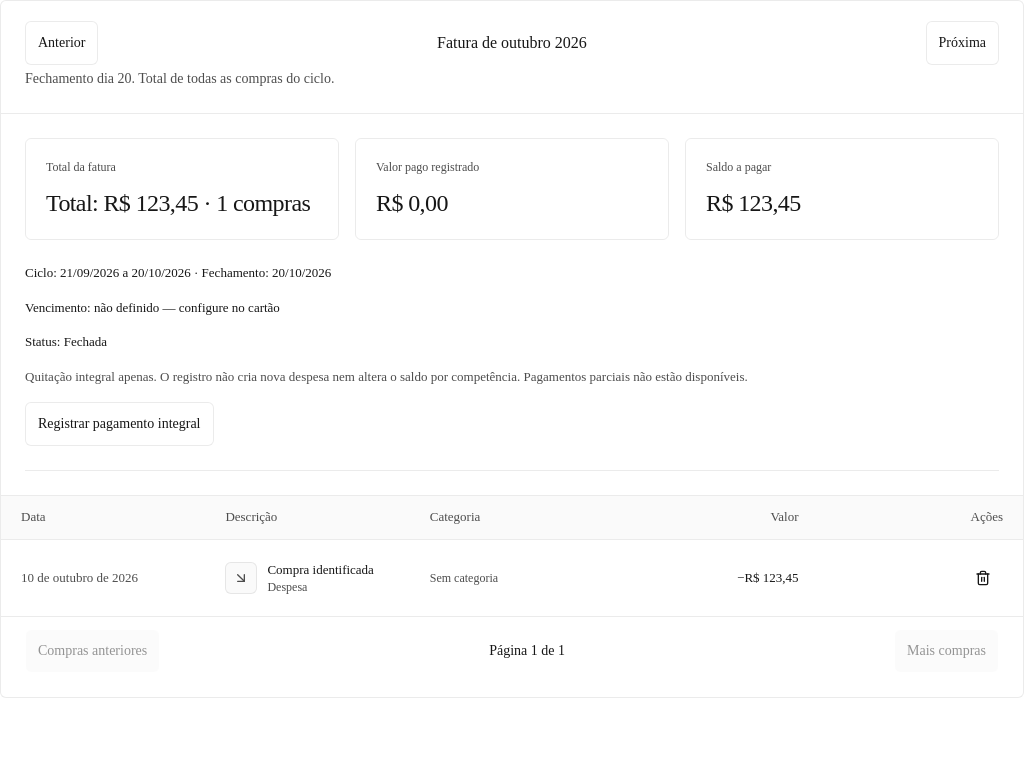
Scenario: abrir e cancelar identificam a compra e não executam exclusão
Expected: the text "Compra identificada" is shown, [267,562,374,576]
Step 1. Click the button named "Excluir lançamento" → (983, 578), box [963,556,1003,600]
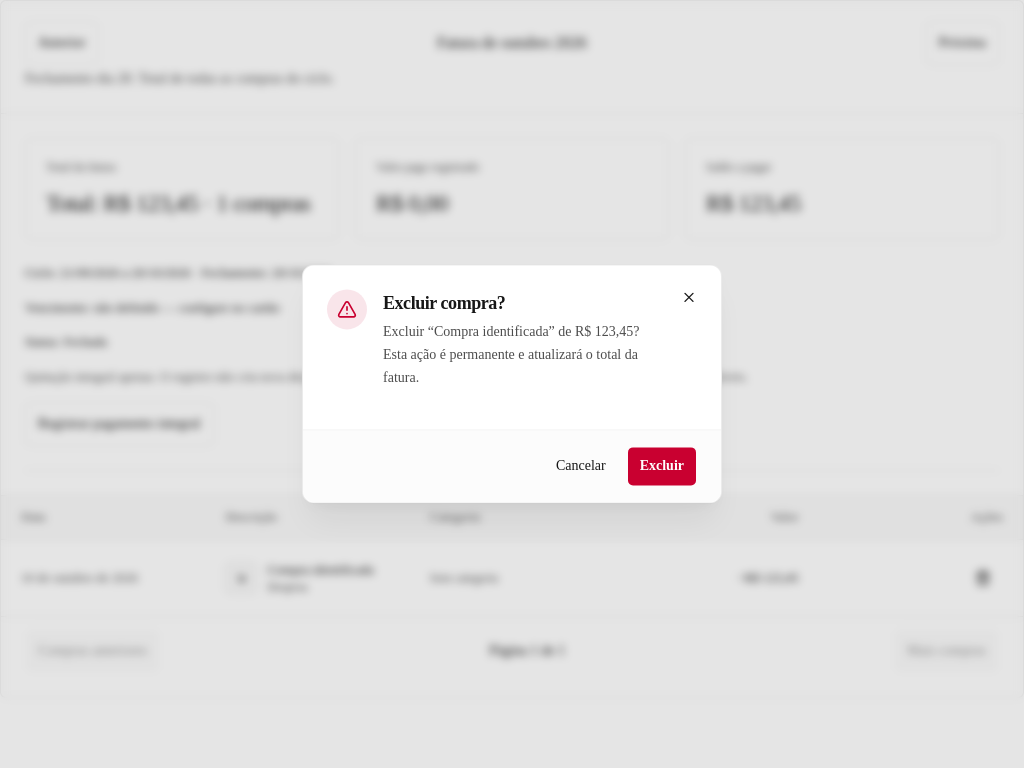
Now the text "Compra identificada" shows "R$ 123,45", box [383,324,640,385]
Step 2. Click the button "Cancelar" → (581, 467), box [543,447,619,487]
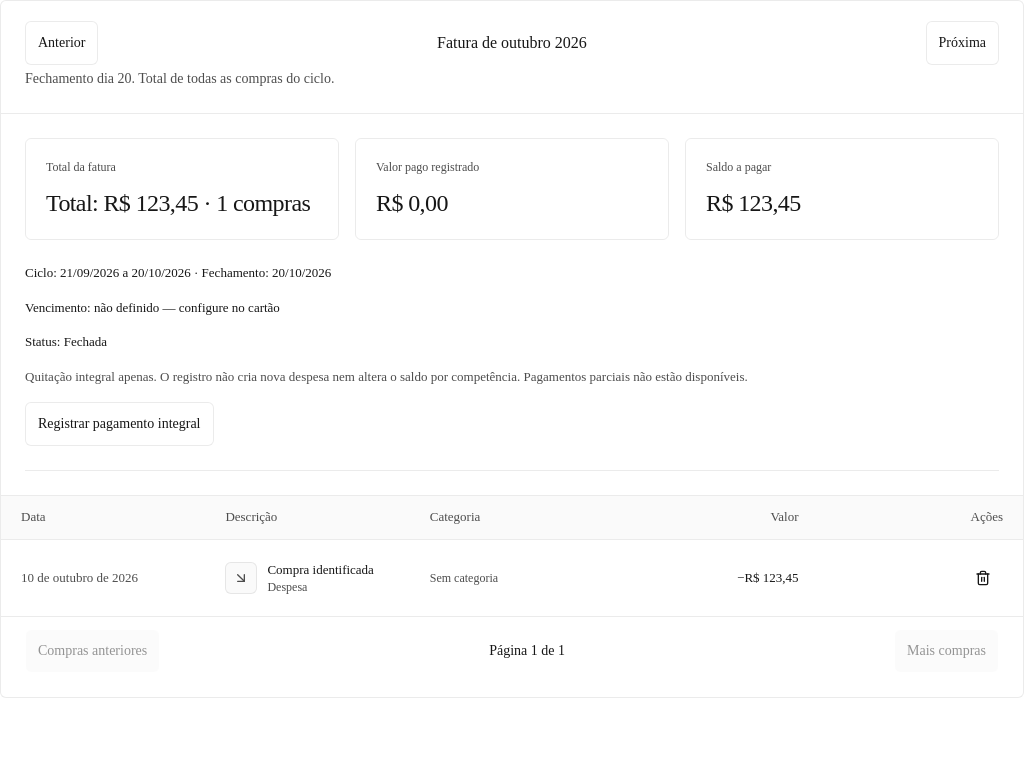
Expected: the text "Compra identificada" is shown, [267,562,374,576]
Now the dialog is gone
